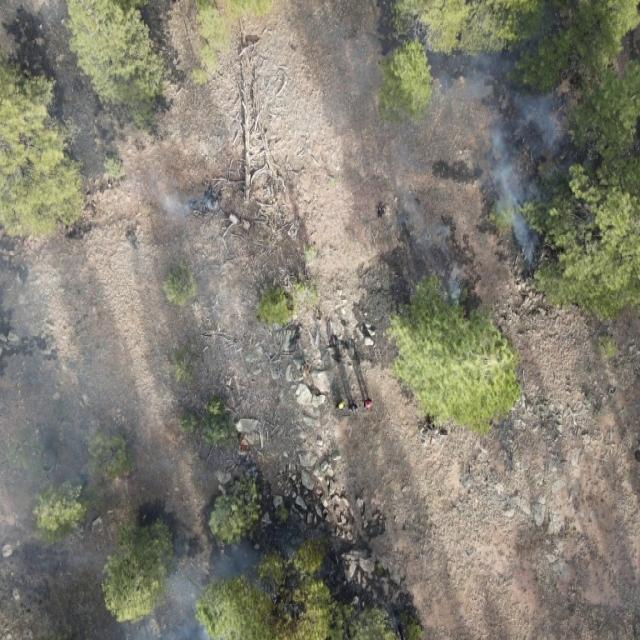fire: (238, 439, 250, 453)
smoke: (2, 320, 300, 640), (0, 0, 239, 319), (366, 34, 564, 295)
